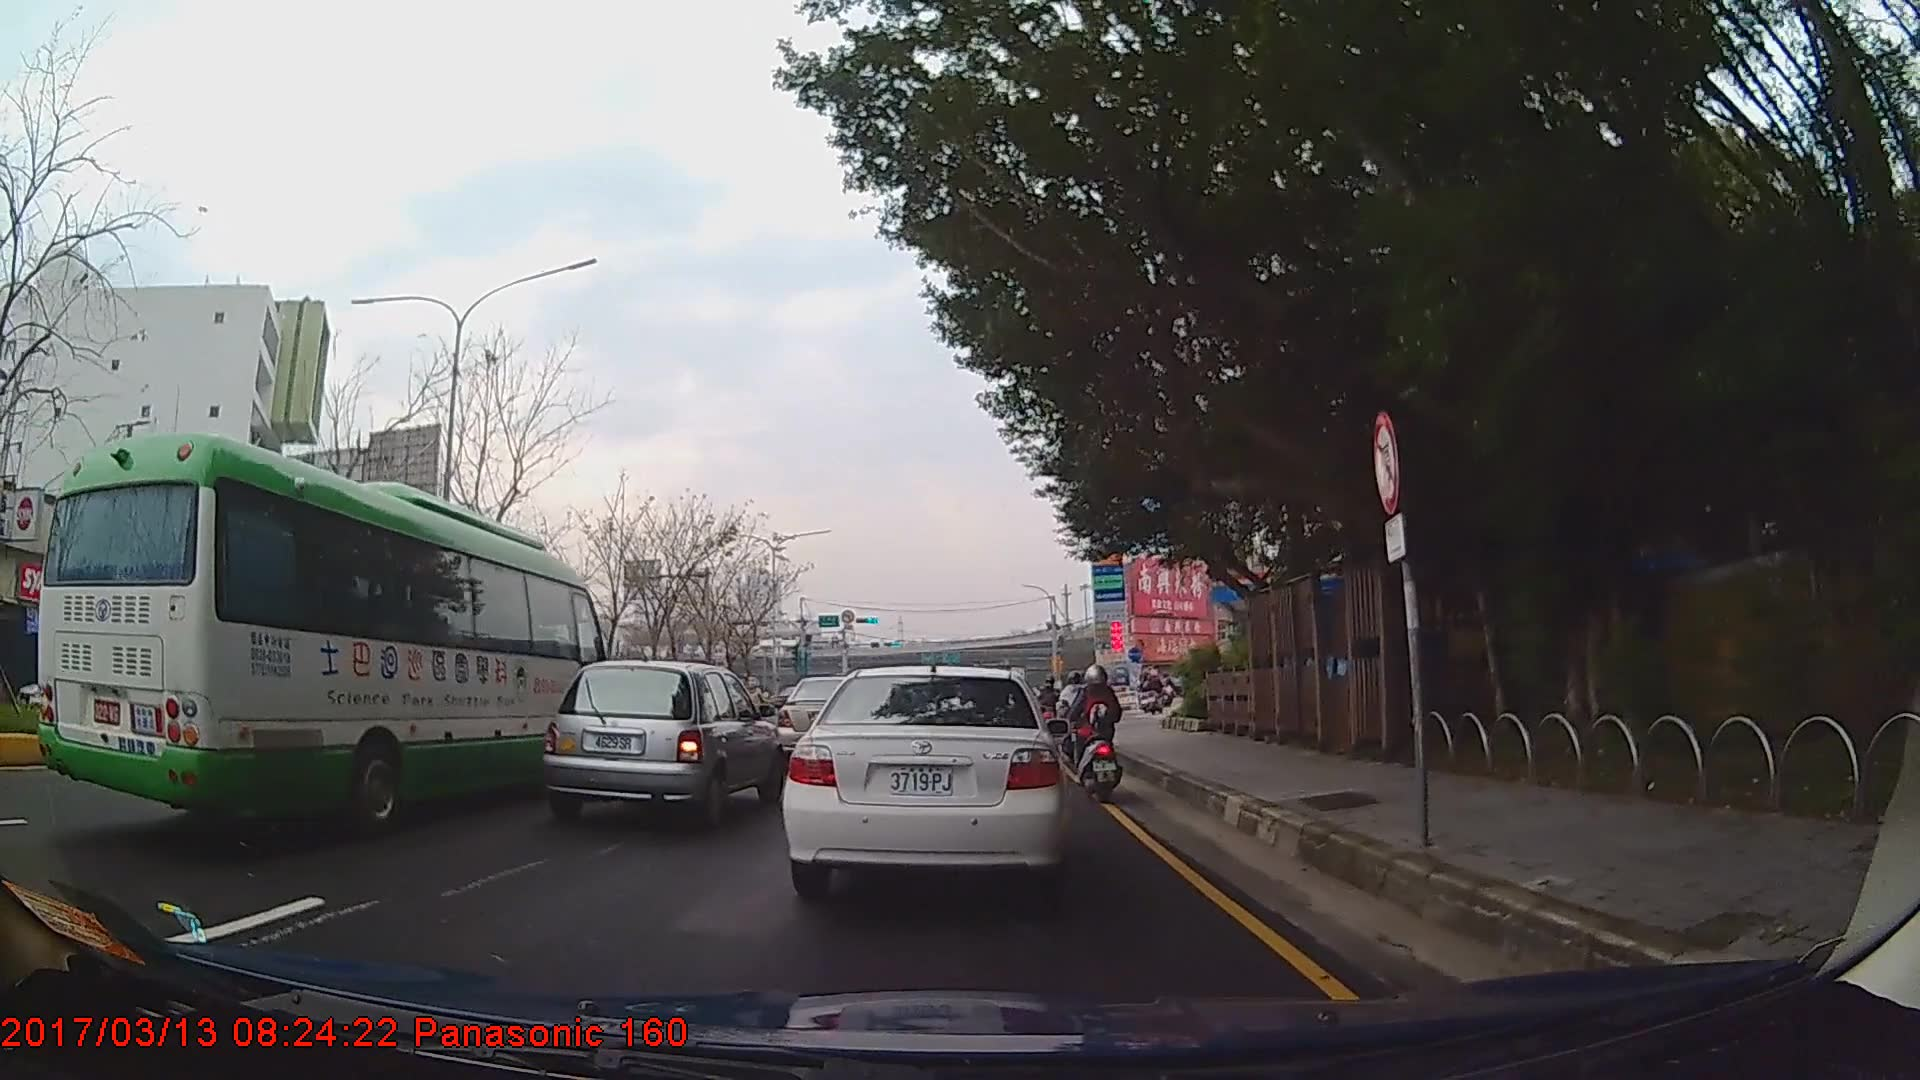rider: (1072, 663, 1122, 806), (1058, 671, 1093, 765), (1038, 675, 1062, 732), (1146, 670, 1166, 718)
vehicle: (35, 431, 608, 836), (780, 662, 1068, 895), (543, 655, 783, 832), (776, 673, 873, 764)
